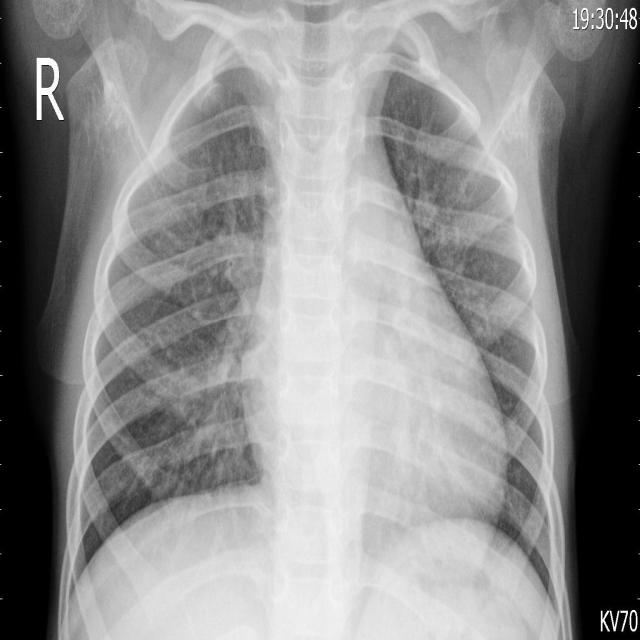low-pneumonia: (136, 315, 247, 494), (402, 144, 502, 333), (206, 165, 271, 333)
